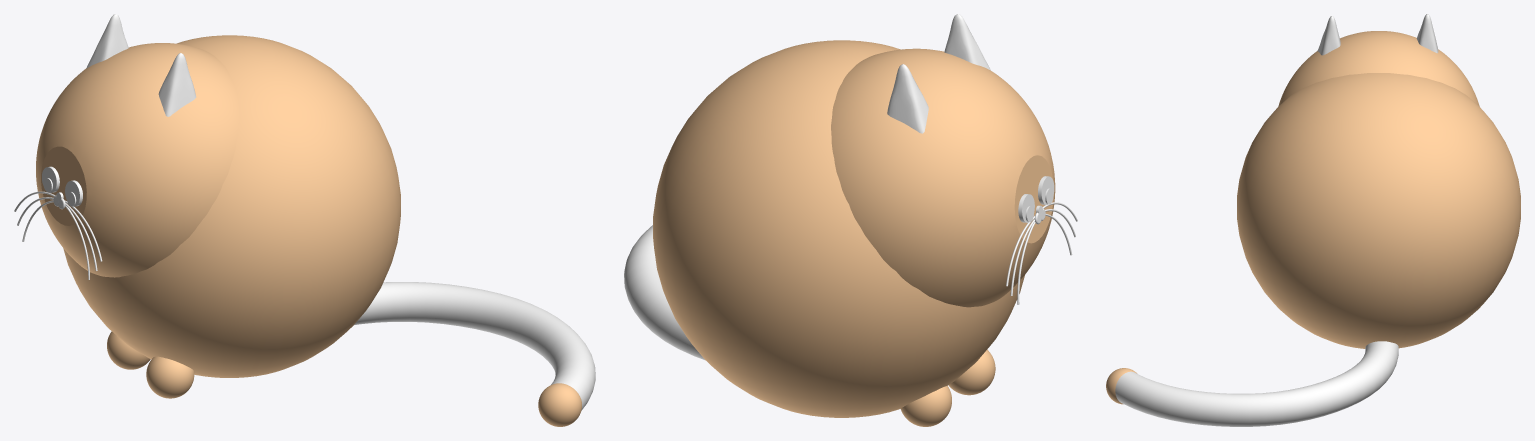
File: orange_cat.gltf
3 views of the same model, side by side, from view 1: azimuth 30°, elevation 25°; view 2: azimuth 150°, elevation 25°; view 3: azimuth 270°, elevation 25° (orthographic). The views are drawn at different scales.
Parts seen in each view (by area): view 1: fat cat obj; view 2: fat cat obj; view 3: fat cat obj.
Boxes of the visible parts, x1,y1,x2,y2 form: fat cat obj: (14, 14, 595, 426); fat cat obj: (624, 14, 1077, 426); fat cat obj: (1106, 14, 1520, 426).
Bounding box in the file's own units: 26.58 × 20.15 × 26.16.
